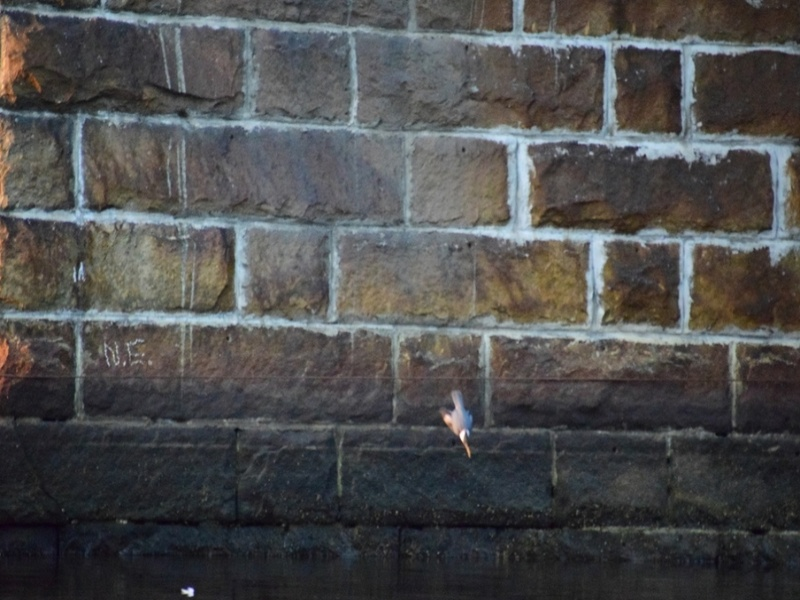kingfisher: (440, 387, 478, 466)
